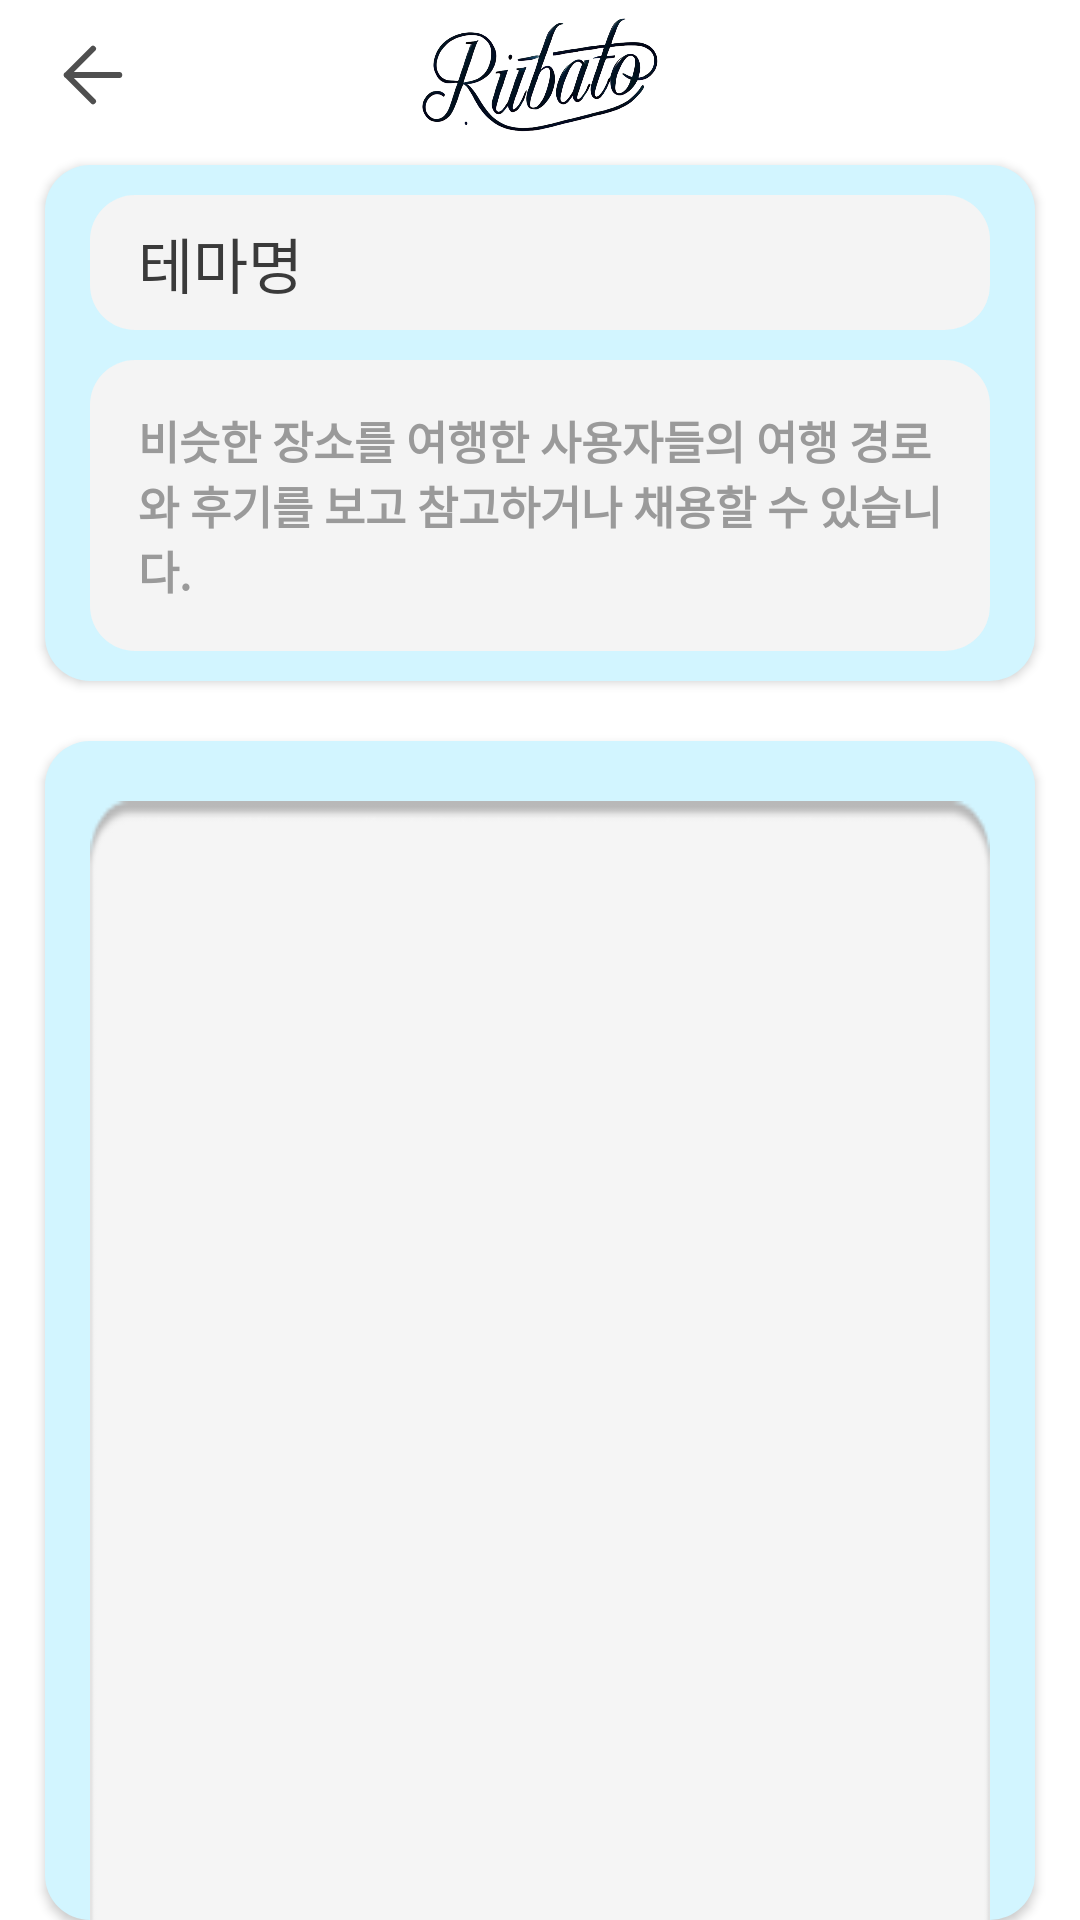

Where to tap for icons on this 1080px x 1920px app screen, as (x=x, y=y):
back arrow: (x=93, y=75)
